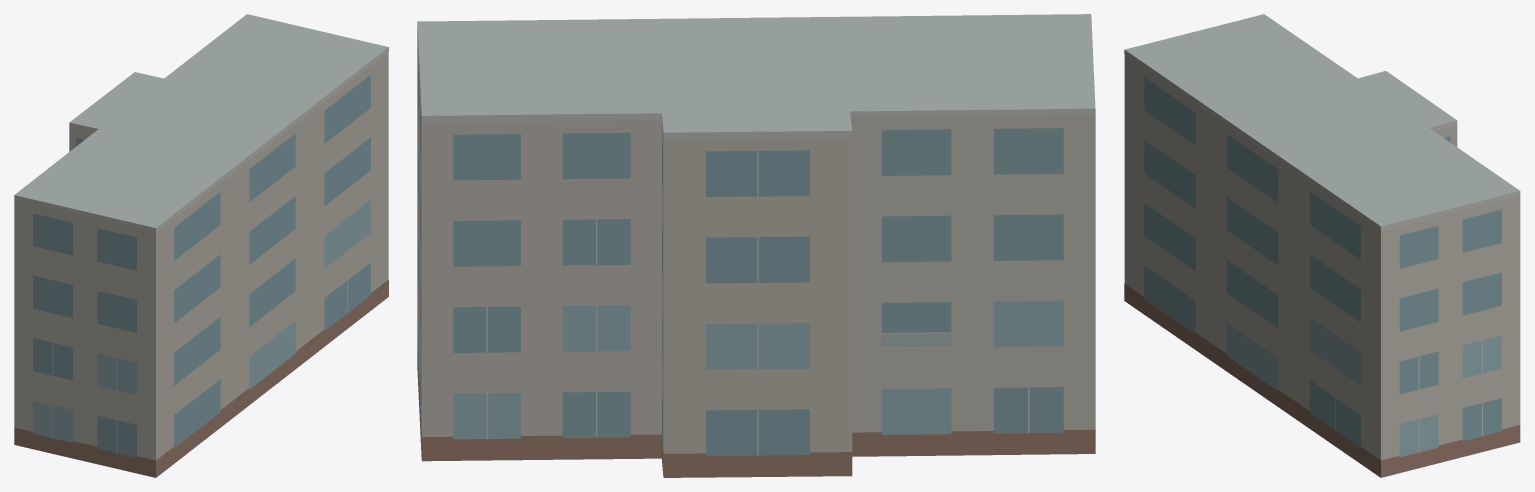
File: survey-upis-32628884.glb
3 renders of one model, left to right at view 1: azimuth 30°, elevation 25°; view 2: azimuth 150°, elevation 25°; view 3: azimuth 270°, elevation 25°, orthographic. The views are drawn at different scales.
Visible parts, largest first — view 1: survey-upis-32628884.tmp; view 2: survey-upis-32628884.tmp; view 3: survey-upis-32628884.tmp.
Part boxes in pixels (x1,y1,x2,y2): survey-upis-32628884.tmp: (14, 14, 388, 477); survey-upis-32628884.tmp: (417, 14, 1095, 477); survey-upis-32628884.tmp: (1124, 14, 1520, 477).
Size of the model in its own units: 22.84 by 12.6 by 17.99.
